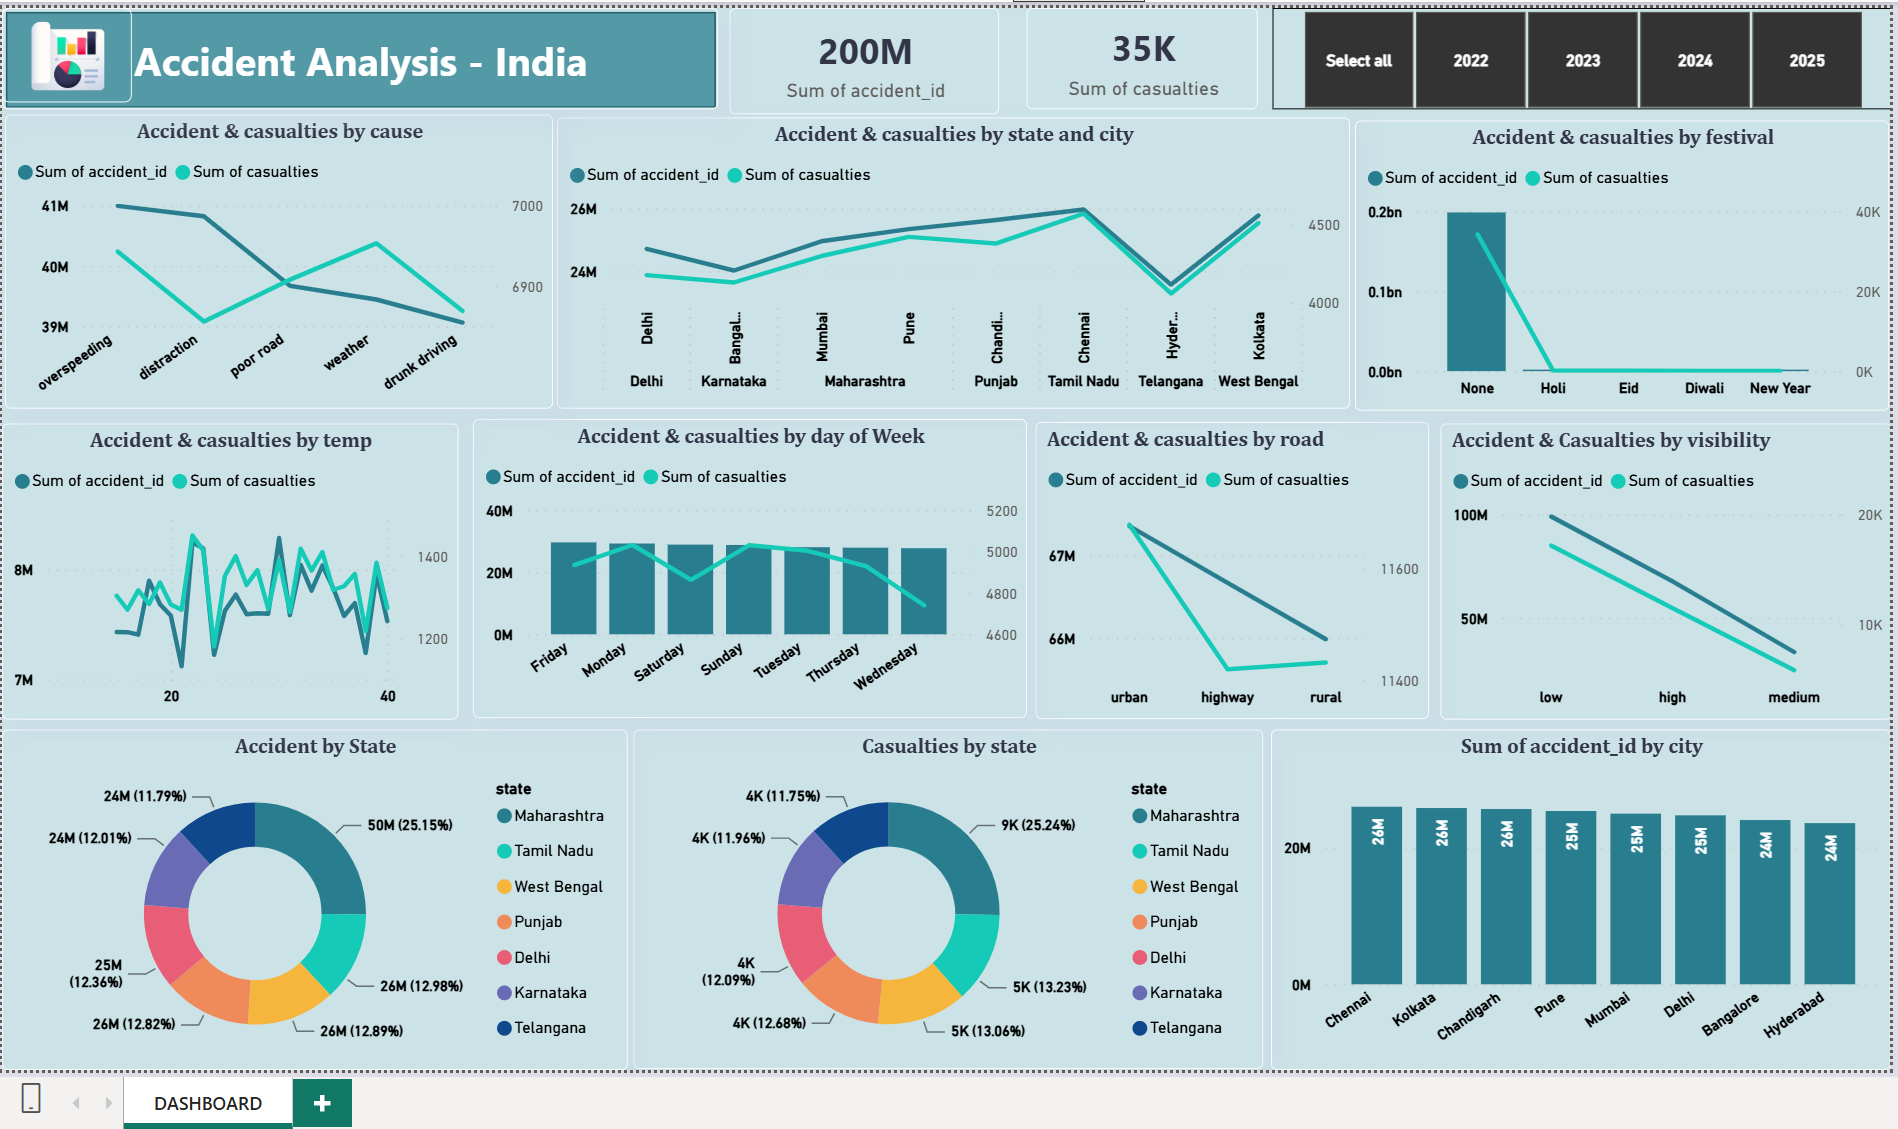

The page's visual inventory and layout, read from the dashboard file:
{"tool":"powerbi","page":{"name":"DASHBOARD","canvas":[1280,720],"ordinal":0},"visuals":[{"type":"shape","box":[0,0,485,69],"z":0,"group":"g1"},{"type":"donutChart","title":"Casualties by state","fields":{"Category":["indian_roads_dataset.state"],"Y":["Sum(indian_roads_dataset.casualties)"]},"box":[427.7,489.3,426.7,230.3],"z":0},{"type":"image","box":[0,0,88.1,63.7],"z":1000,"group":"g1"},{"type":"card","fields":{"Values":["Sum(indian_roads_dataset.casualties)"]},"box":[679.8,0,175.1,68.8],"z":1000},{"type":"lineChart","title":"Accident & casualties by state and city","fields":{"Y":["CountNonNull(indian_roads_dataset.accident_id)"],"Y2":["Sum(indian_roads_dataset.casualties)"],"Category":["indian_roads_dataset.state","indian_roads_dataset.city"]},"box":[375.7,74.3,537,197.4],"z":2000},{"type":"slicer","fields":{"Values":["indian_roads_dataset.Year"]},"box":[860.8,0,419.2,69],"z":3000},{"type":"donutChart","title":"Accident by State","fields":{"Category":["indian_roads_dataset.state"],"Y":["CountNonNull(indian_roads_dataset.accident_id)"]},"box":[0,489.1,423.8,230.6],"z":4000},{"type":"card","fields":{"Values":["CountNonNull(indian_roads_dataset.accident_id)"]},"box":[493,0,183,72.2],"z":5000},{"type":"lineChart","title":"Accident & casualties by road","fields":{"Category":["indian_roads_dataset.road_type"],"Y":["CountNonNull(indian_roads_dataset.accident_id)"],"Y2":["Sum(indian_roads_dataset.casualties)"]},"box":[700.5,280.2,266.4,201.7],"z":6000},{"type":"lineClusteredColumnComboChart","title":"Accident & casualties by day of Week","fields":{"Category":["indian_roads_dataset.day_of_week"],"Y":["Sum(indian_roads_dataset.accident_id)"],"Y2":["Sum(indian_roads_dataset.casualties)"]},"box":[318.8,278.9,375.5,202.9],"z":7000},{"type":"lineChart","title":"Accident & casualties by temp ","fields":{"Category":["indian_roads_dataset.temperature"],"Y":["CountNonNull(indian_roads_dataset.accident_id)"],"Y2":["Sum(indian_roads_dataset.casualties)"]},"box":[0,281.4,309.1,200.5],"z":8000},{"type":"lineChart","title":"Accident & Casualties by visibility","fields":{"Category":["indian_roads_dataset.visibility"],"Y":["CountNonNull(indian_roads_dataset.accident_id)"],"Y2":["Sum(indian_roads_dataset.casualties)"]},"box":[974.3,281.3,305.7,200.6],"z":9000},{"type":"lineClusteredColumnComboChart","title":"Accident & casualties by festival","fields":{"Category":["indian_roads_dataset.festival"],"Y":["Count(indian_roads_dataset.accident_id)"],"Y2":["Sum(indian_roads_dataset.casualties)"]},"box":[916.5,76.1,362.3,196.8],"z":10000},{"type":"lineChart","title":"Accident & casualties by cause","fields":{"Category":["indian_roads_dataset.cause"],"Y":["Count(indian_roads_dataset.accident_id)"],"Y2":["Sum(indian_roads_dataset.casualties)"]},"box":[2.1,72.2,371.5,199.5],"z":11000},{"type":"group","id":"g1","title":"Group 1","box":[0,0,485,69],"z":12000},{"type":"columnChart","title":"Count of accident by city","fields":{"Category":["indian_roads_dataset.city"],"Y":["CountNonNull(indian_roads_dataset.accident_id)"]},"box":[859.8,489.1,420.2,230.6],"z":13000}]}

Visuals, with their boxes on the page's 1280x720 design canvas (x1, y1, x2, y2). These are canvas units, not pixel positions in the 1898x1129 screenshot, which may show the page scaled, cropped or inside an application window:
shape: [0, 0, 485, 69]
"Casualties by state" donutChart: [428, 489, 854, 720]
image: [0, 0, 88, 64]
card - Sum(indian_roads_dataset.casualties): [680, 0, 855, 69]
"Accident & casualties by state and city" lineChart: [376, 74, 913, 272]
slicer - indian_roads_dataset.Year: [861, 0, 1280, 69]
"Accident by State" donutChart: [0, 489, 424, 720]
card - CountNonNull(indian_roads_dataset.accident_id): [493, 0, 676, 72]
"Accident & casualties by road" lineChart: [700, 280, 967, 482]
"Accident & casualties by day of Week" lineClusteredColumnComboChart: [319, 279, 694, 482]
"Accident & casualties by temp " lineChart: [0, 281, 309, 482]
"Accident & Casualties by visibility" lineChart: [974, 281, 1280, 482]
"Accident & casualties by festival" lineClusteredColumnComboChart: [916, 76, 1279, 273]
"Accident & casualties by cause" lineChart: [2, 72, 374, 272]
"Group 1" group: [0, 0, 485, 69]
"Count of accident by city" columnChart: [860, 489, 1280, 720]
